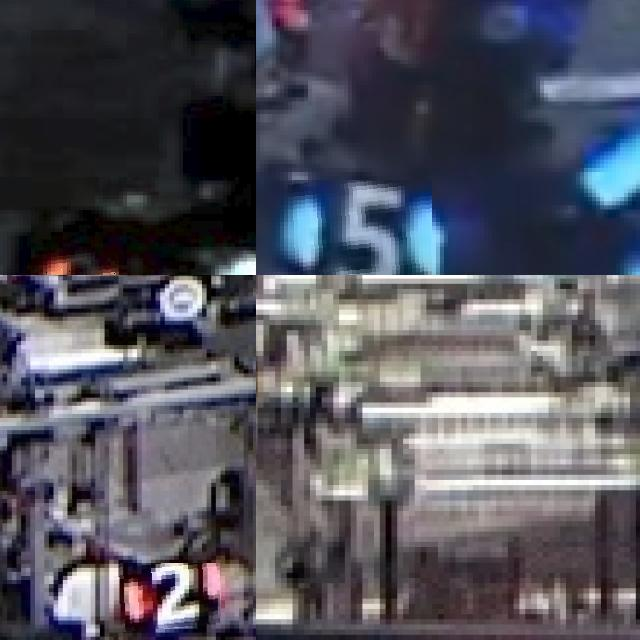B5: (288, 180, 432, 275)
R2: (114, 563, 220, 633)
Rs: (43, 246, 119, 275)
